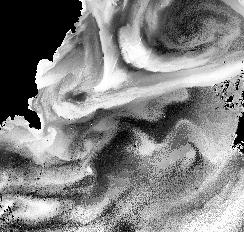CE: (136, 1, 237, 65)
